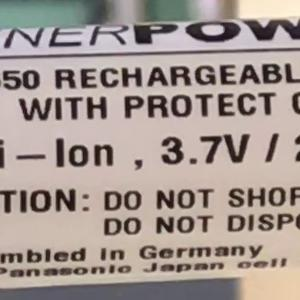keyword: (151, 124, 257, 175)
